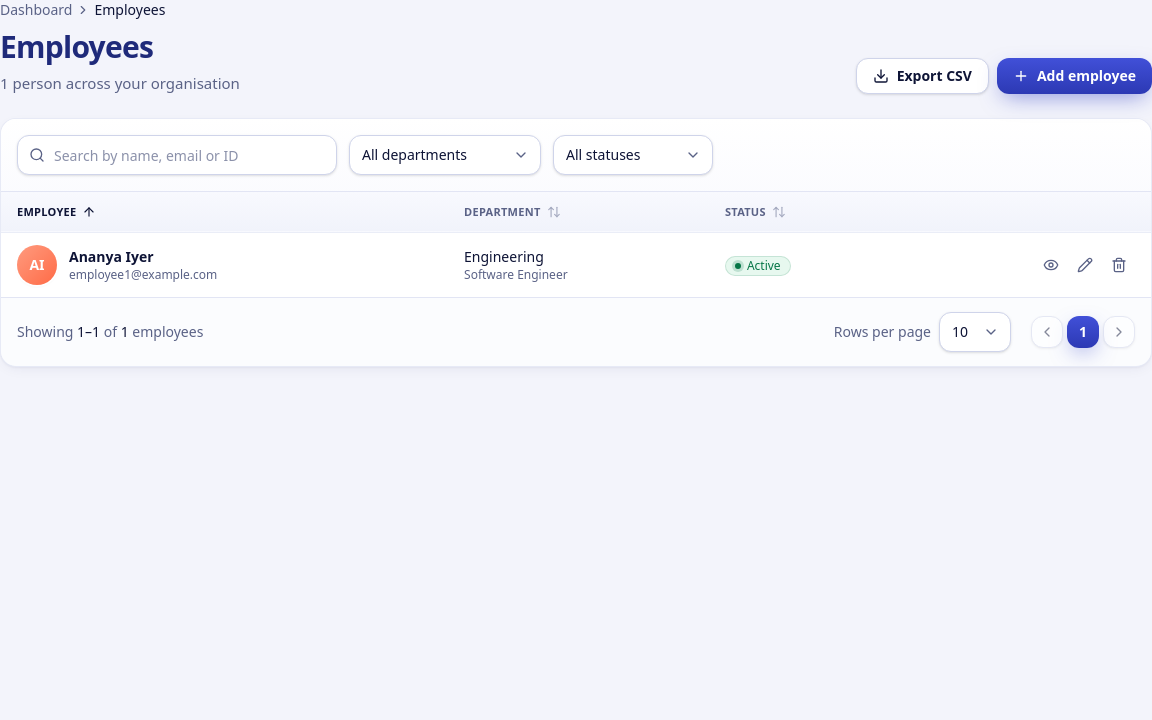
Test: <EmployeeDirectory> › delete › asks for confirmation, and cancelling keeps the employee
This screenshot has width=1152, height=720.
Click the button named "Delete Ananya Iyer" at (1119, 264), box left=1103, top=248, right=1135, bottom=280
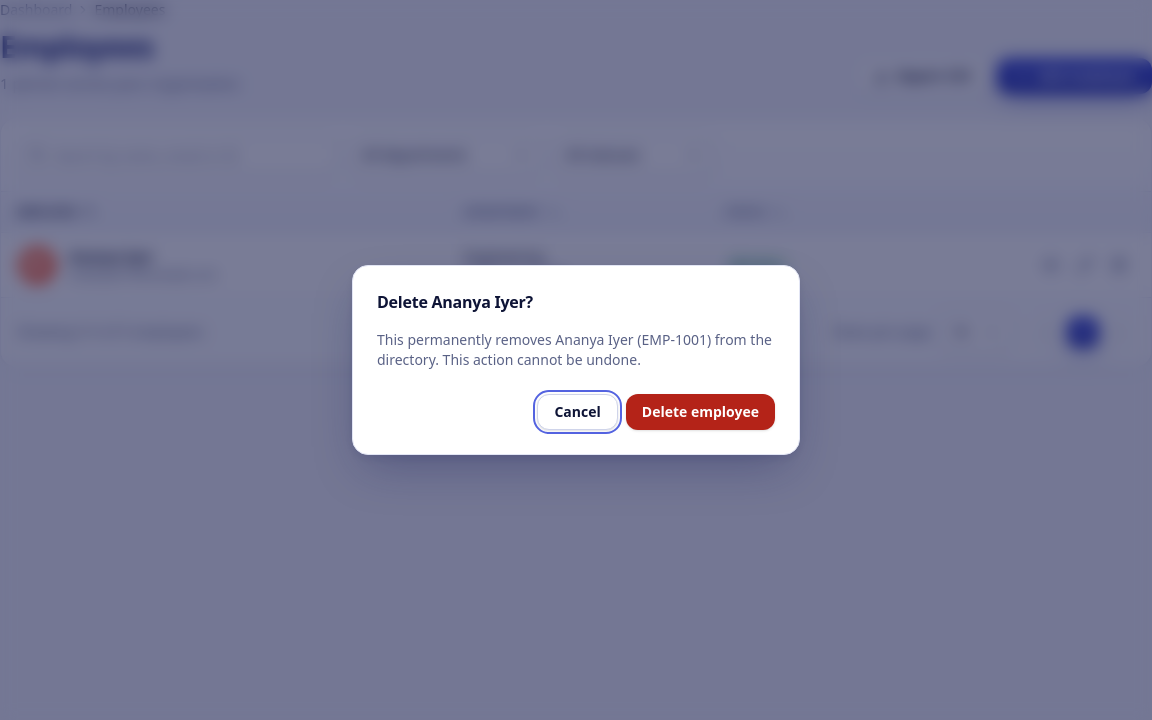
Check: the heading "Delete Ananya Iyer?" is shown, box left=377, top=291, right=533, bottom=313
Check: the text "cannot be undone" is shown, box left=377, top=330, right=772, bottom=369
Click the button "Cancel" at (578, 412), box left=538, top=394, right=618, bottom=430
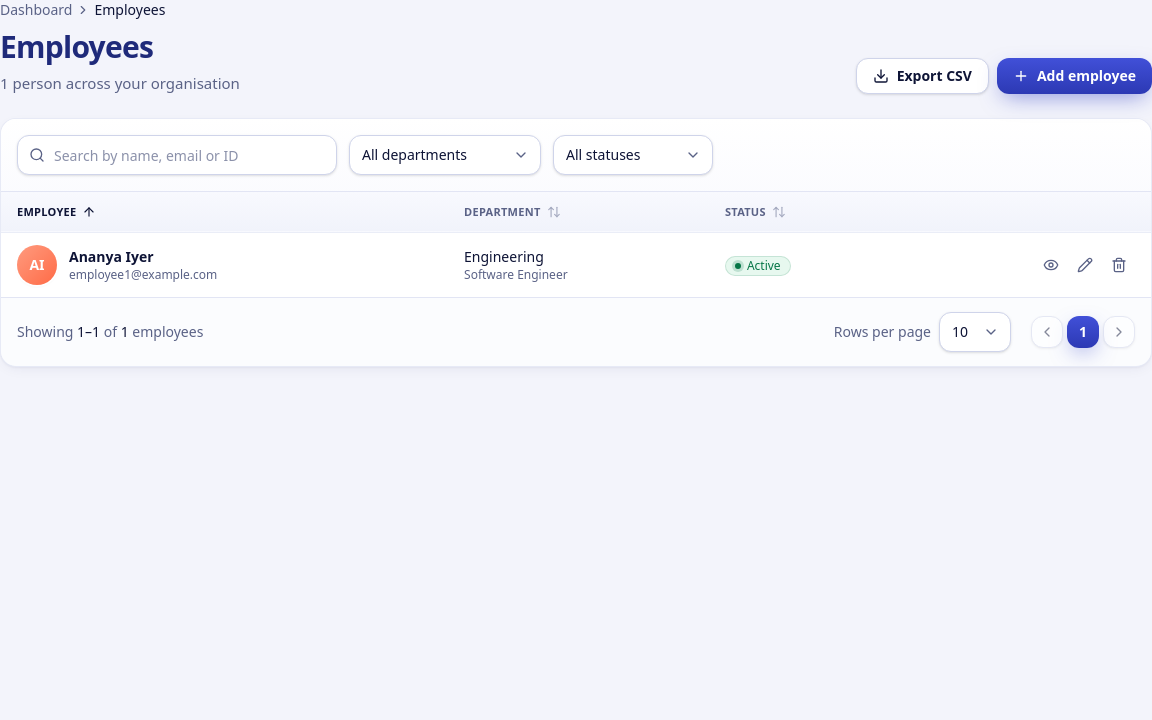
Check: the link "Ananya Iyer" is shown, box left=69, top=246, right=154, bottom=266
Check: the dialog is gone
